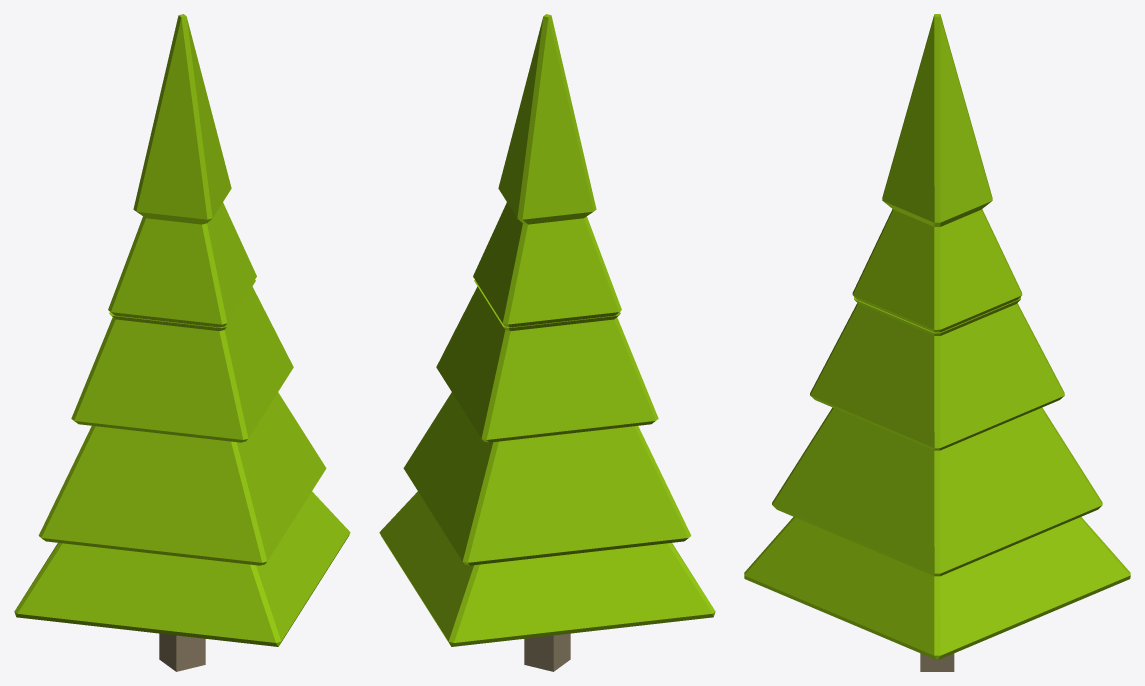
The model's file is pine_10_bevel.fbx.
The picture shows the model from 3 angles, left to right: view 1: azimuth 30°, elevation 25°; view 2: azimuth 150°, elevation 25°; view 3: azimuth 270°, elevation 25°; orthographic projection.
Visible parts, largest first — view 1: pine_10_bevel; view 2: pine_10_bevel; view 3: pine_10_bevel.
Part boxes in pixels (<box>): pine_10_bevel: <box>14,14,350,671</box>; pine_10_bevel: <box>379,14,715,671</box>; pine_10_bevel: <box>744,14,1130,671</box>.
Bounding box in the file's own units: 138 × 255 × 138.
